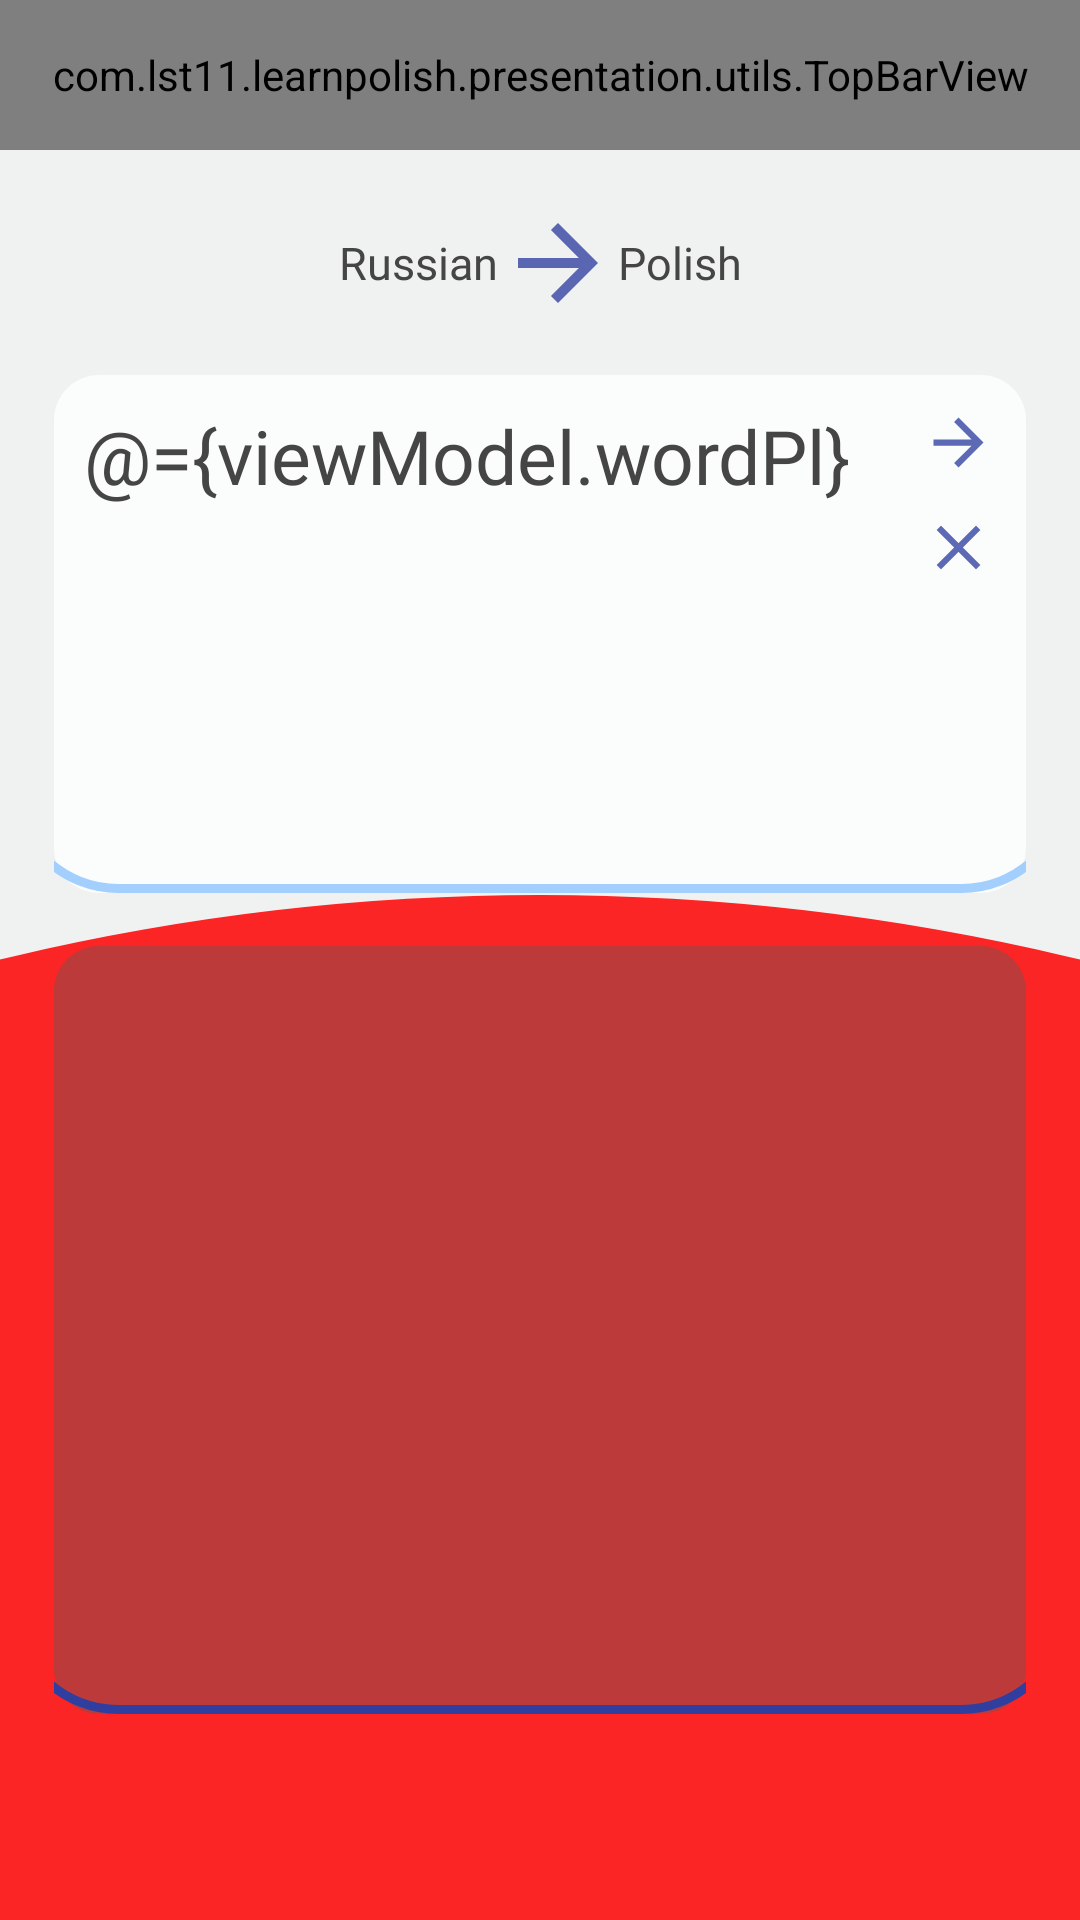

Icons on this 1080px x 1920px Android screen, each with the point to tap as [x,y]:
arrow forward: [558,263], [958,442]
clear: [958,547]
